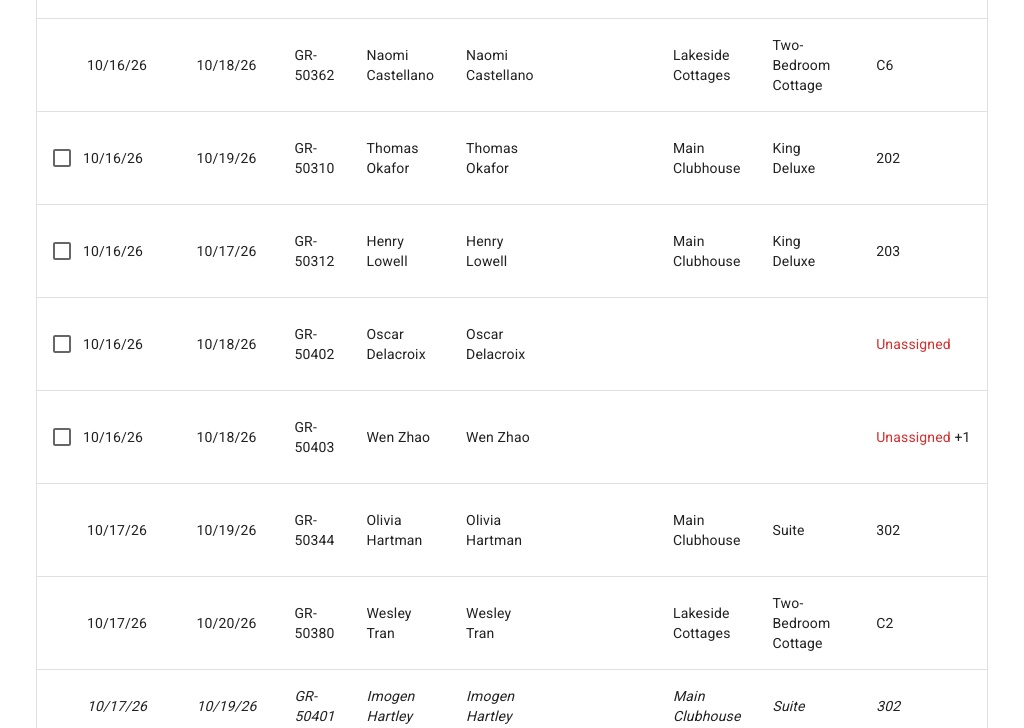
Test: bulk check-in › shows no button with nothing selected and counts rooms, not reservations
(page scrolled)
Click the checkbox named "Select reservation GR-50402".
click(62, 344)  # box [50, 332, 74, 356]
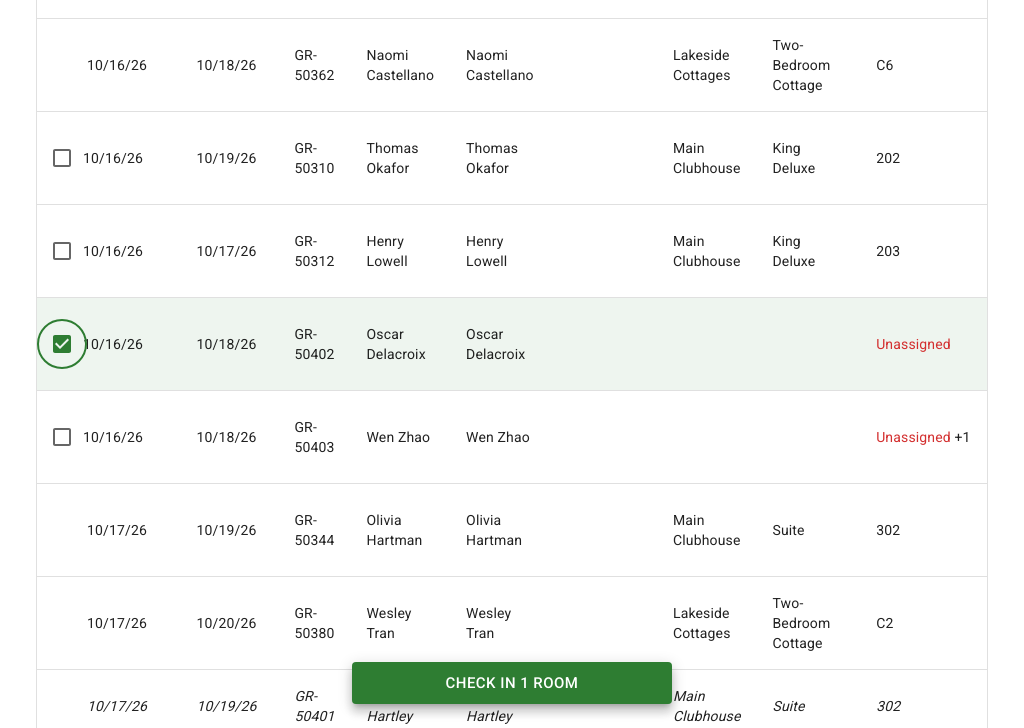
Expected: the button "CHECK IN 1 ROOM" is shown, [352, 662, 672, 704]
Click the checkbox named "Select reservation GR-50403".
click(62, 437)  # box [50, 425, 74, 449]
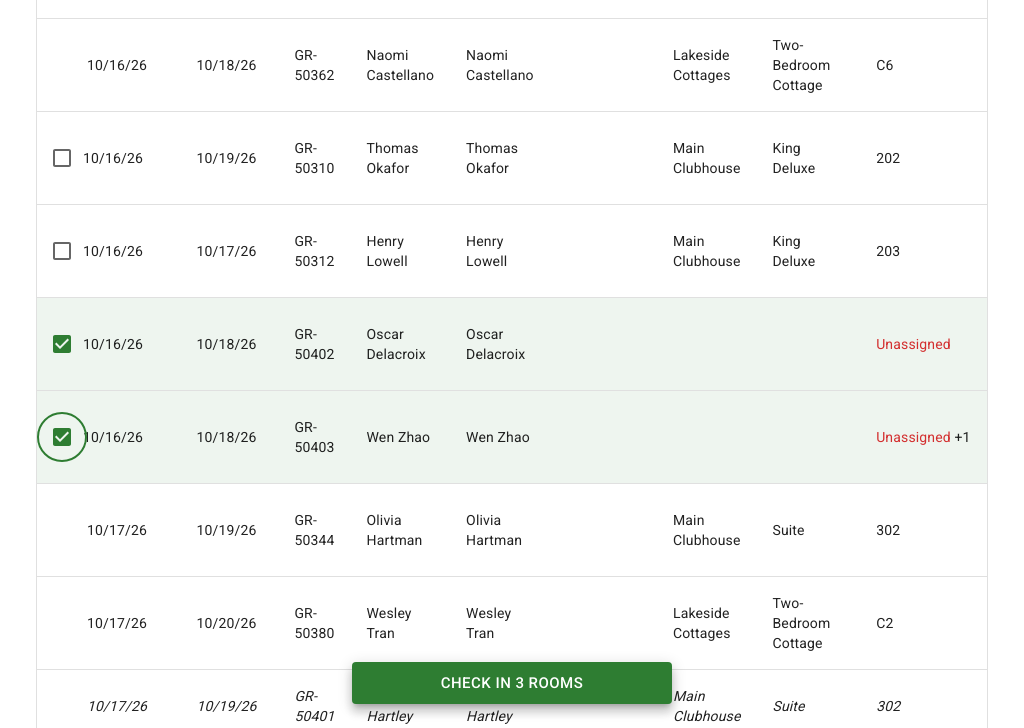
Expected: the button "CHECK IN 3 ROOMS" is shown, [352, 662, 672, 704]
